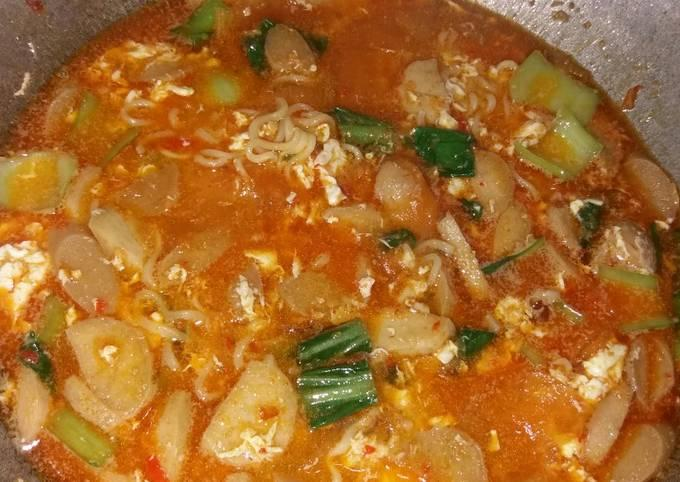seblak: (1, 1, 680, 482)
